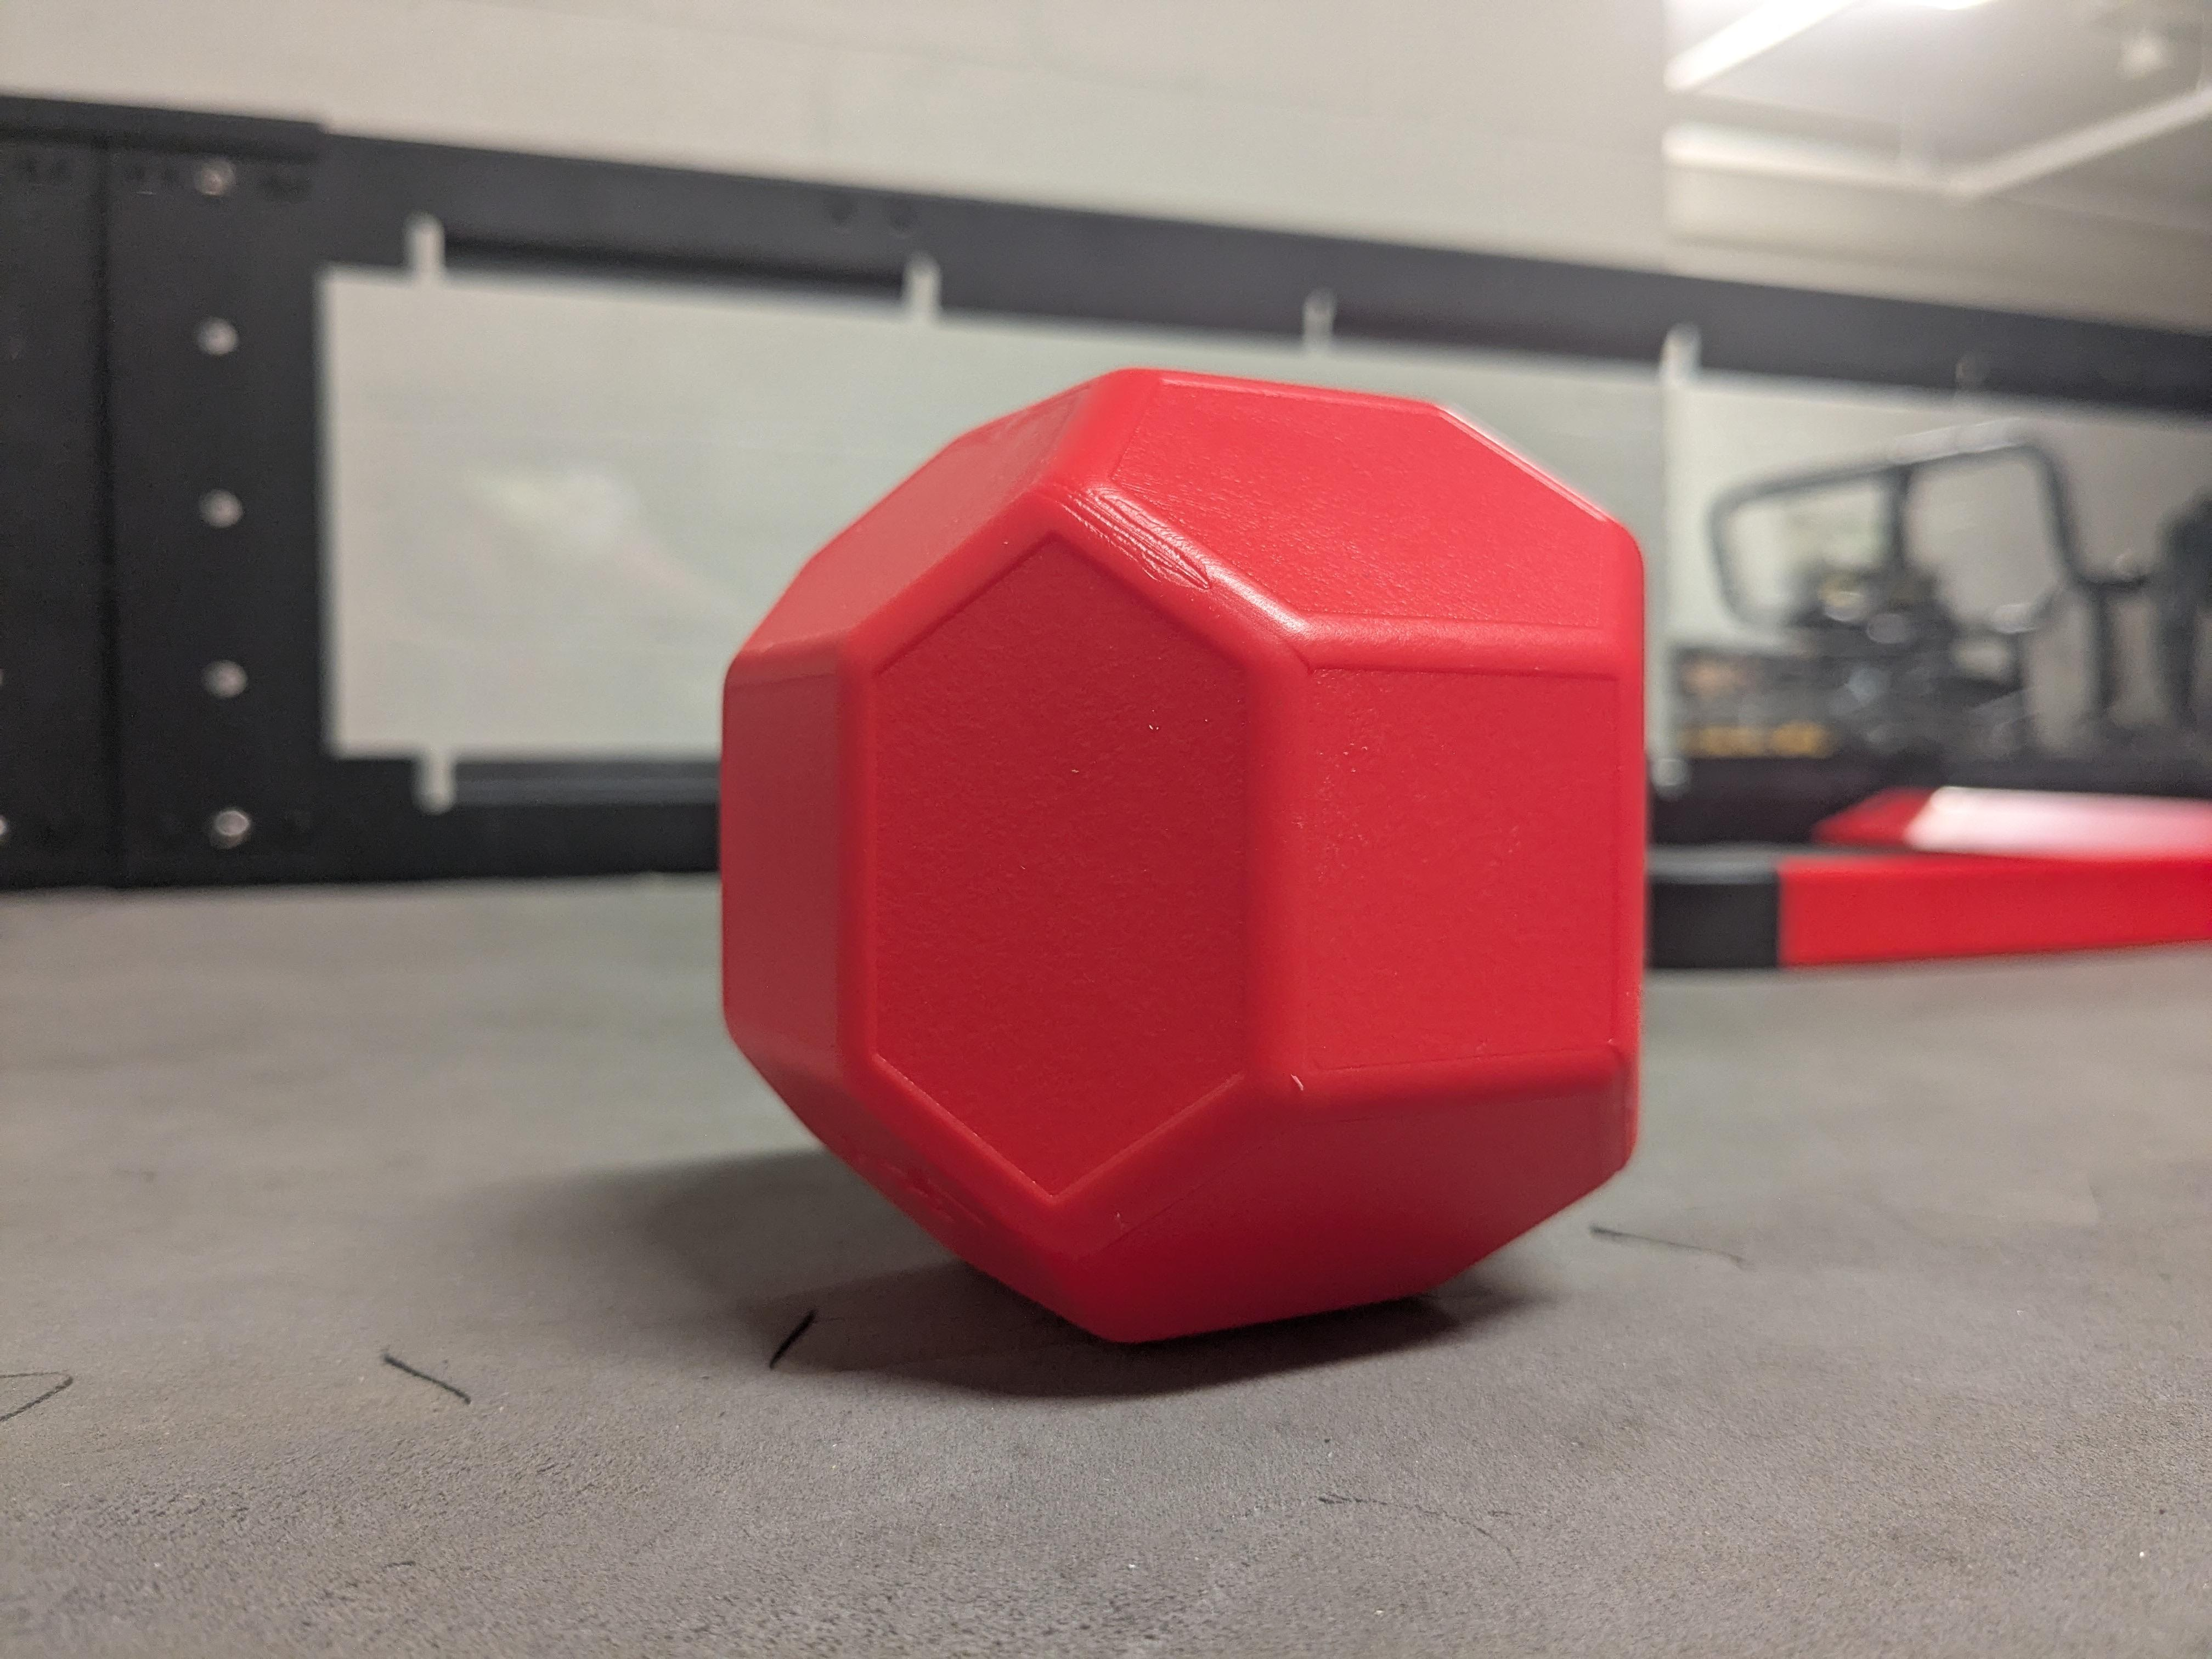Vex-Pieces-RED: (698, 375, 1651, 1326)
